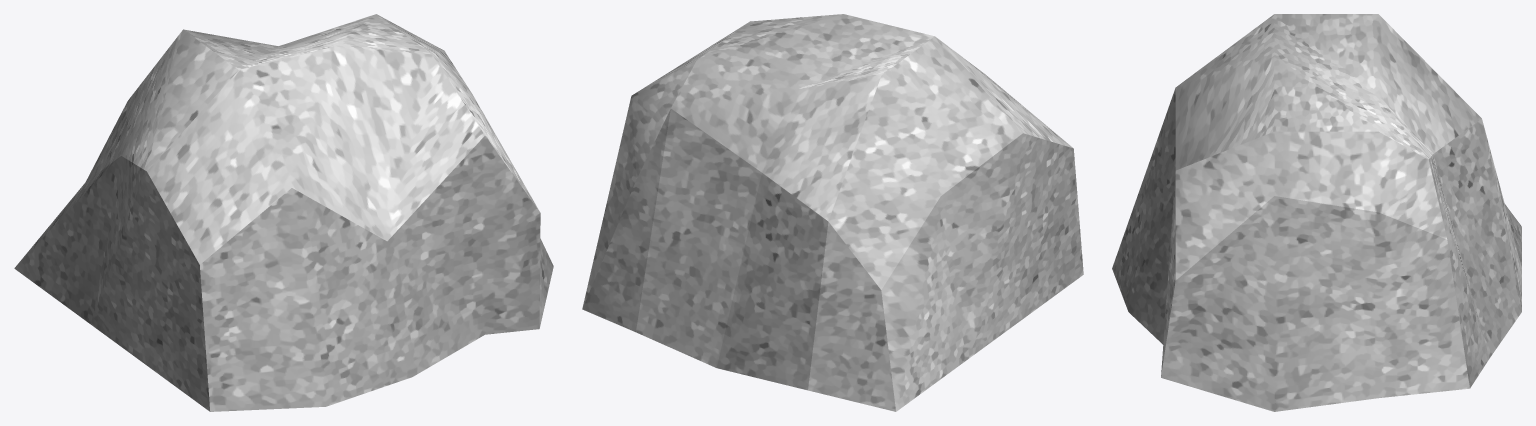
Rendered from rock.fbx.
The picture shows the model from 3 angles, left to right: view 1: azimuth 30°, elevation 25°; view 2: azimuth 150°, elevation 25°; view 3: azimuth 270°, elevation 25°; orthographic projection. The views are drawn at different scales.
Visible parts, largest first — view 1: pCube1; view 2: pCube1; view 3: pCube1.
Boxes of the visible parts, x1,y1,x2,y2 form: pCube1: (14, 14, 553, 411); pCube1: (582, 14, 1083, 411); pCube1: (1112, 14, 1521, 411).
Bounding box in the file's own units: 6.48 × 4.15 × 6.06.
Materials: 1 (1 with a texture image).
